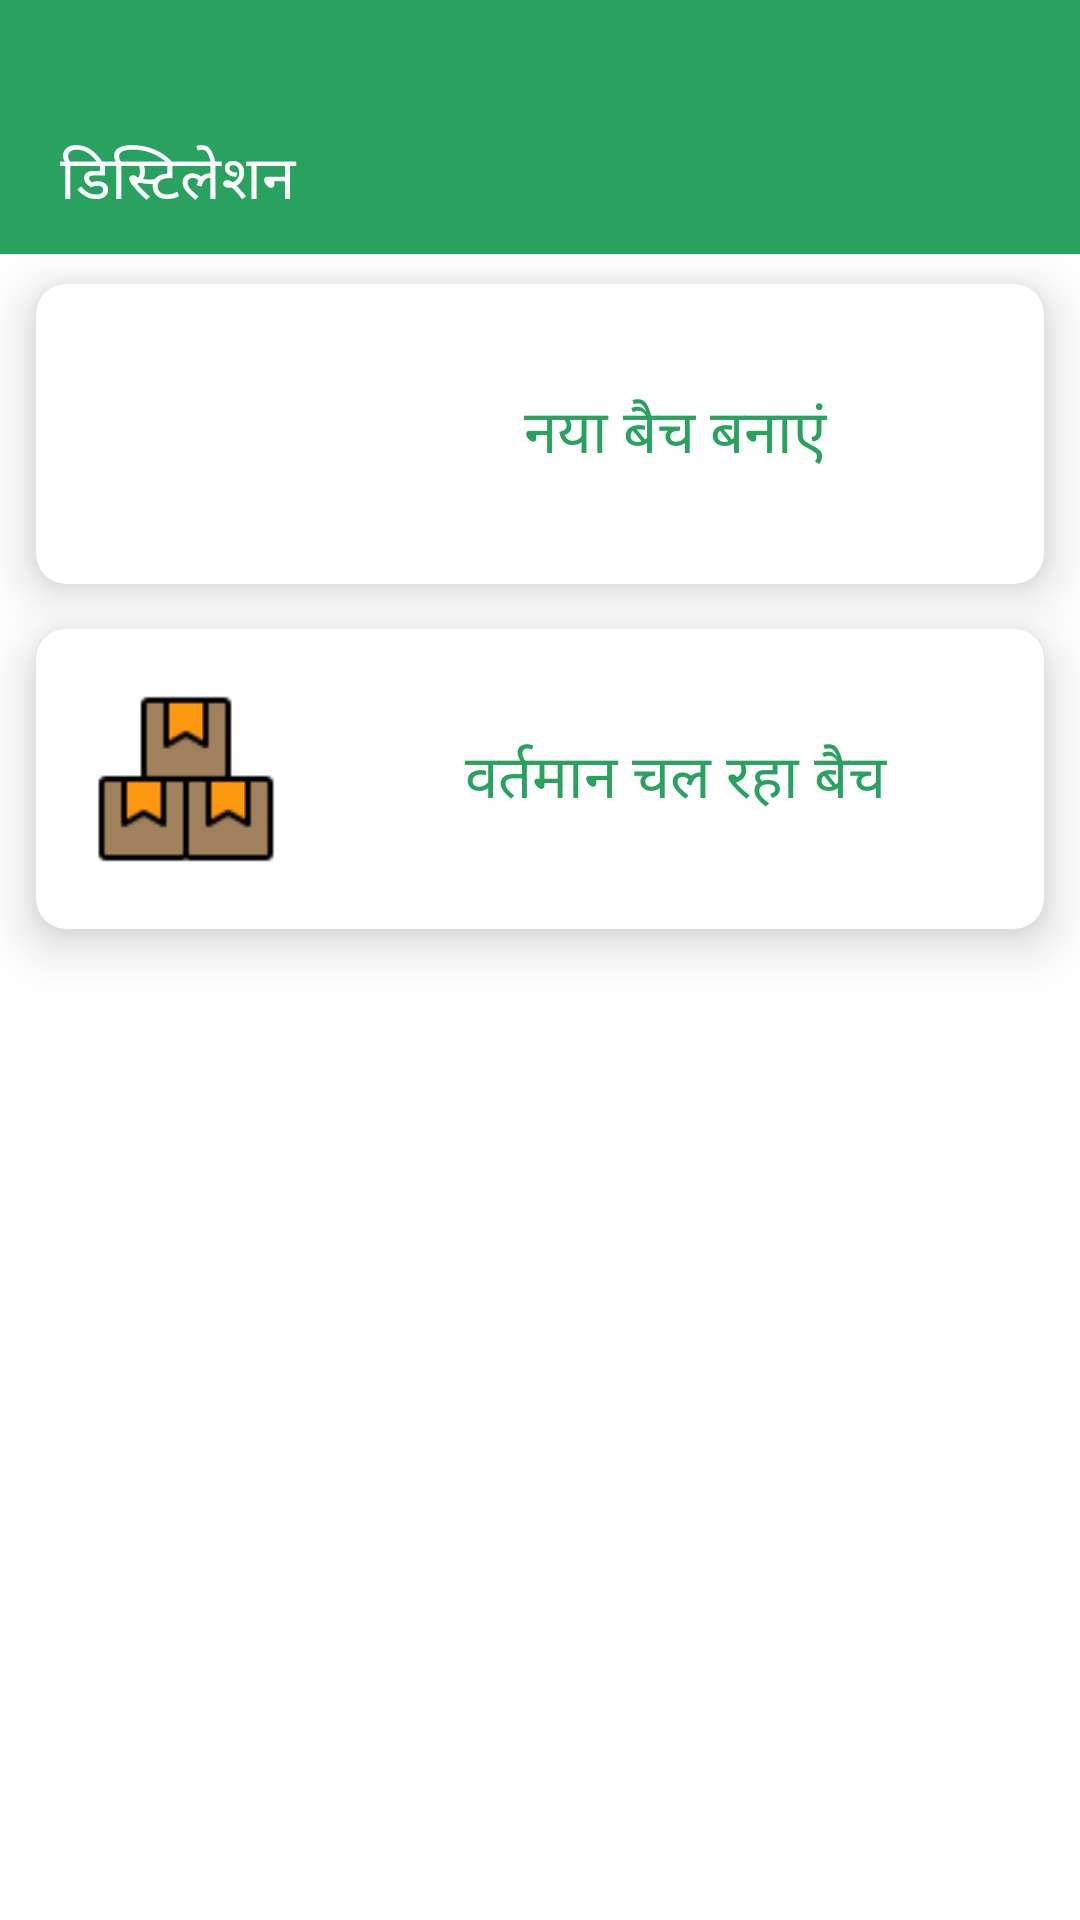

Screen size 1080px x 1920px. Icon name, then its box in pixels as (x1, y1, x2, y2):
ex batch: (98, 696, 274, 862)
